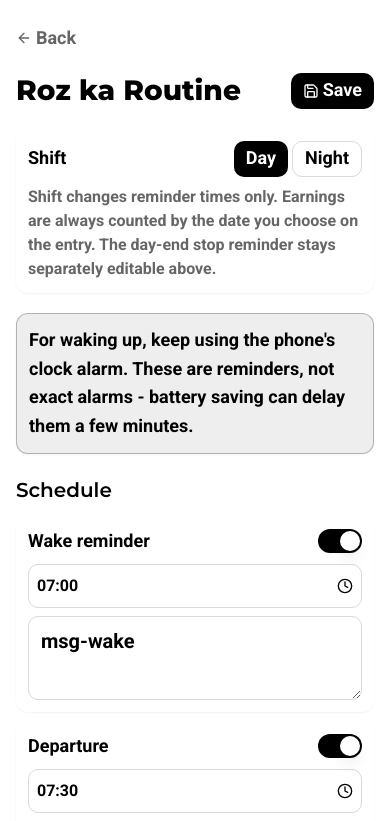
RoutinePage save vs scheduling › permission denied: saved toast plus the no-permission status
The image size is (390, 821).
Click the button "Save" at {"x": 332, "y": 91}, box [291,73,374,109]
(page scrolled)
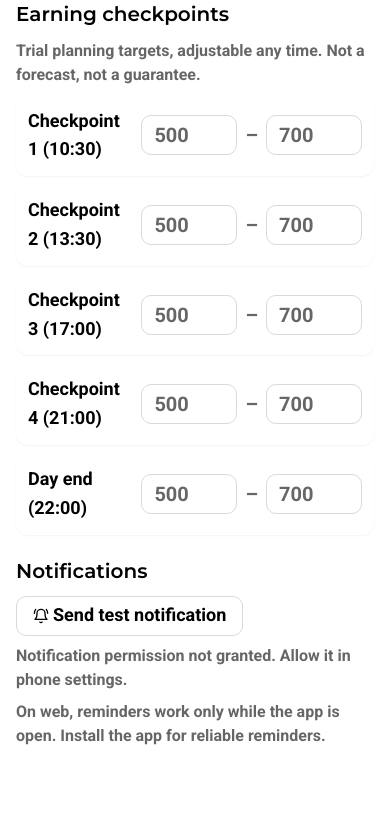
Result: the text "Notification permission not granted. Allow it in phone settings." is shown at [16,644,374,692]
